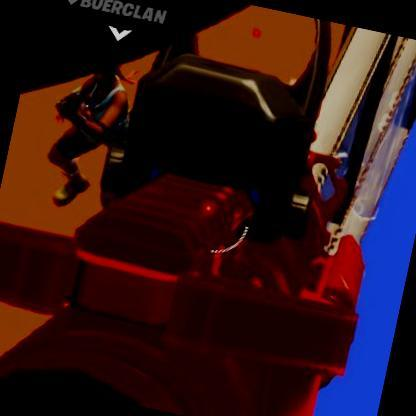person: (36, 61, 138, 216)
